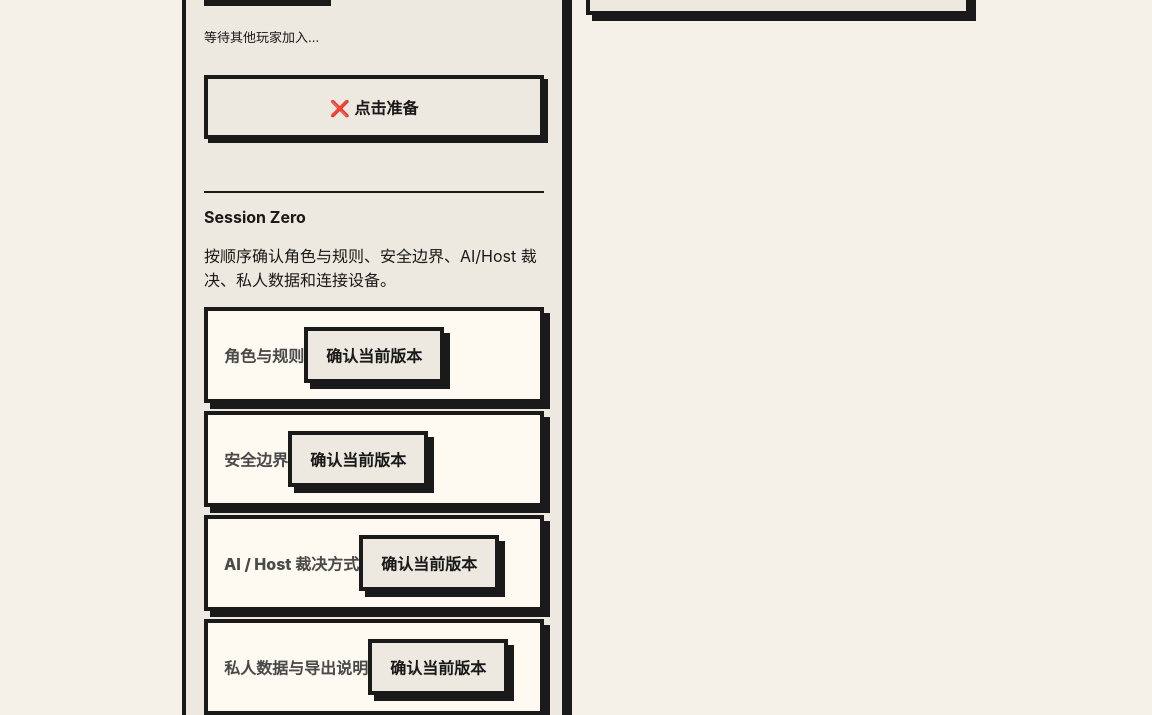
Test case: PlayerLobby Session Zero › stale contract confirm failure keeps panel usable and re-syncs
(page scrolled)
Click the 1st button "确认当前版本" at [374, 355], box [304, 327, 444, 383]
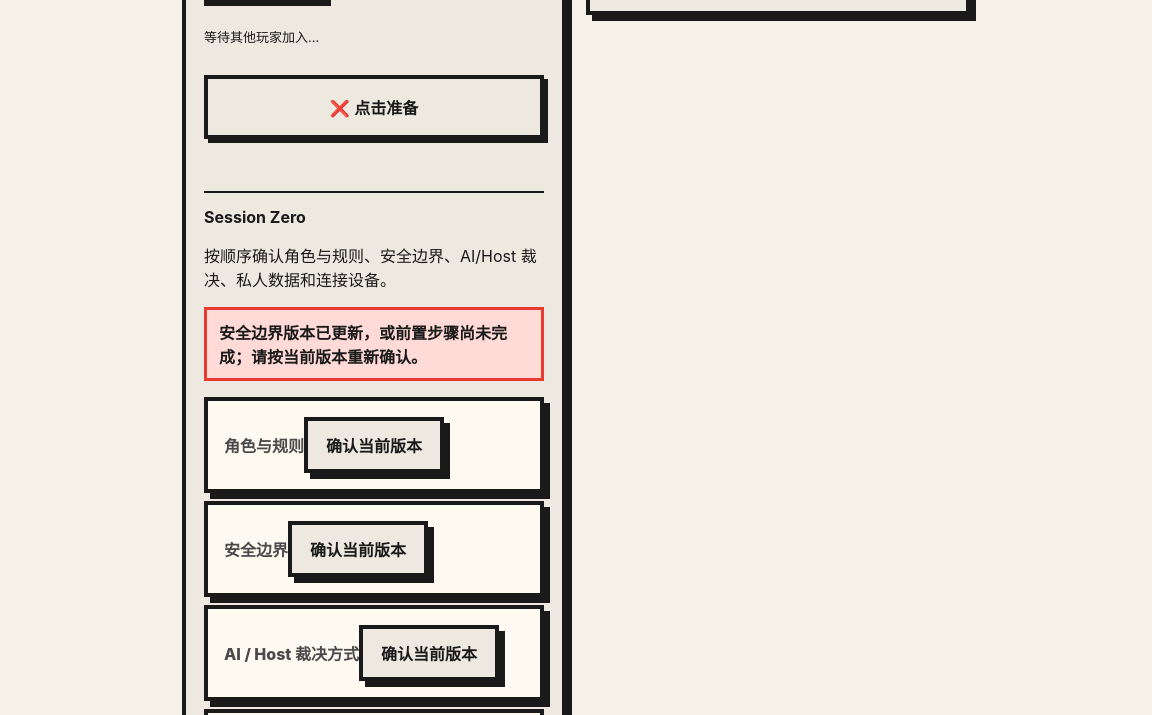
Check: the text "确认当前版本" is shown, box [304, 417, 444, 473]
Check: the text "安全边界版本已更新，或前置步骤尚未完成" is shown, box [219, 323, 507, 367]
